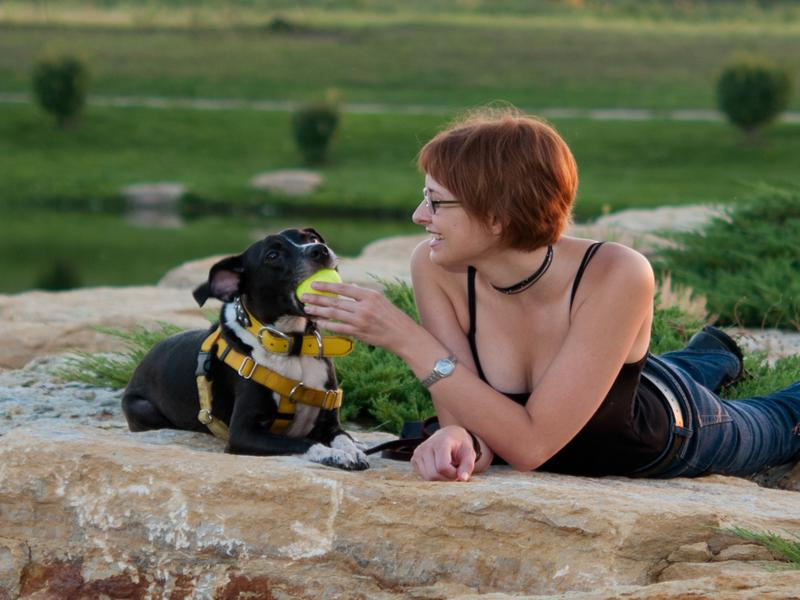dog_down: (123, 225, 376, 477)
